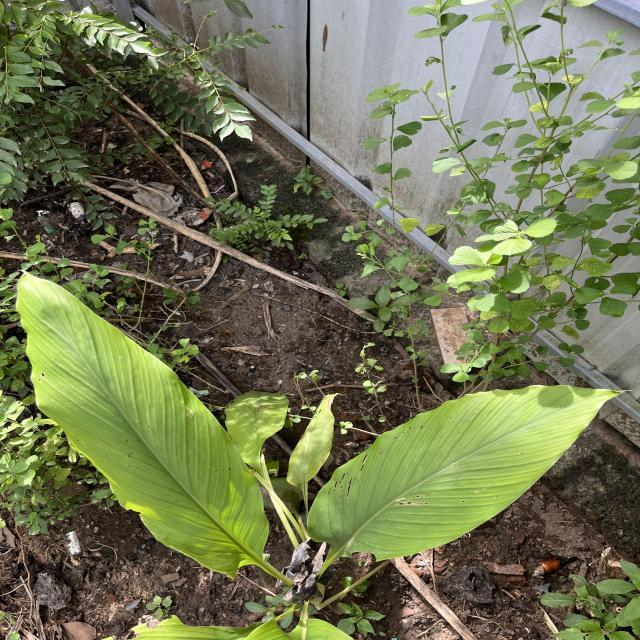Curcuma longa: (11, 270, 272, 580), (302, 382, 634, 566)
